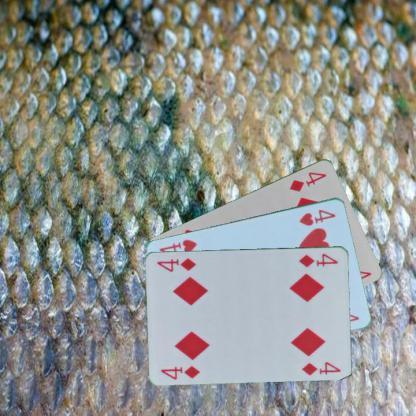4d: (287, 168, 328, 194), (158, 363, 202, 381), (297, 250, 339, 268)
4h: (296, 206, 337, 227)
